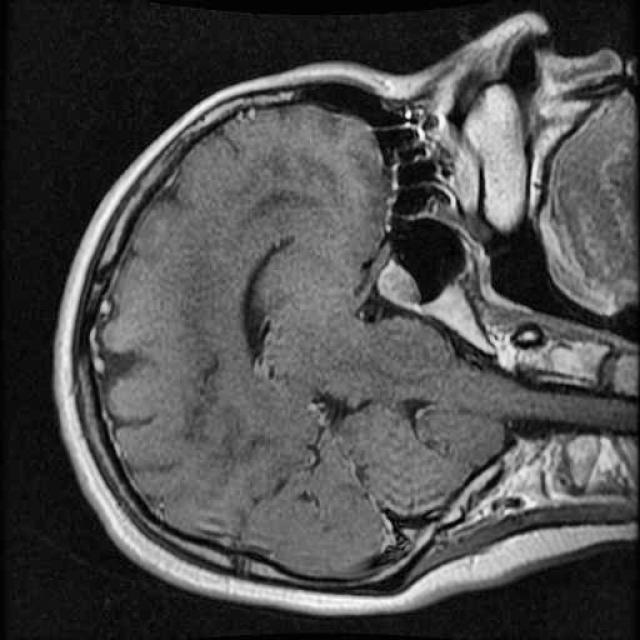Tumor: (368, 249, 435, 325)
